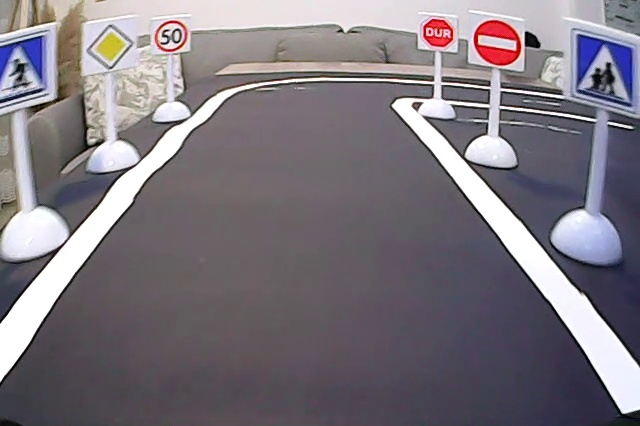do not enter: (470, 14, 526, 68)
pedestrian crossing: (1, 30, 52, 107)
school crossing: (567, 21, 639, 109)
speed limit 50: (154, 19, 189, 53)
stop sign: (420, 16, 456, 53)
